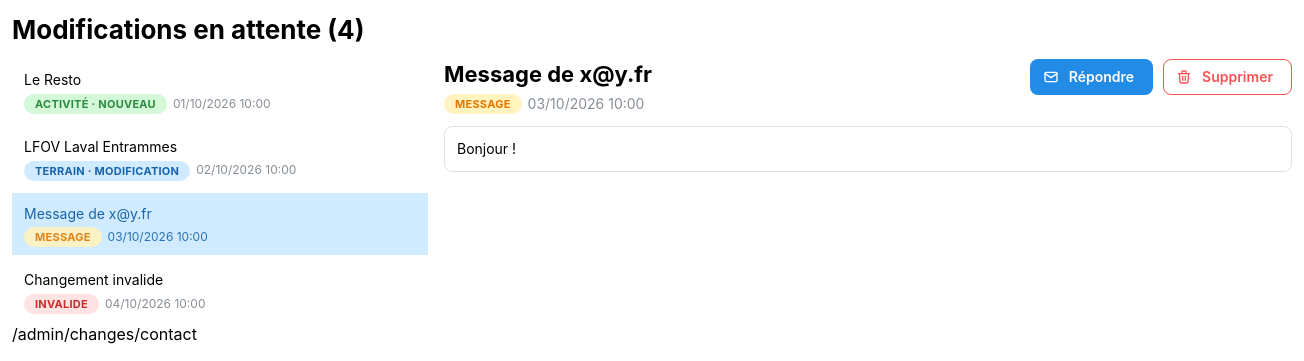
AdminChanges › reads contact messages, which can only be answered or deleted
The image size is (1304, 361).
expect the text "Bonjour !" is shown: met, box [457,140,516,157]
Click the button "Supprimer" at (1228, 77), box [1163,59,1292,95]
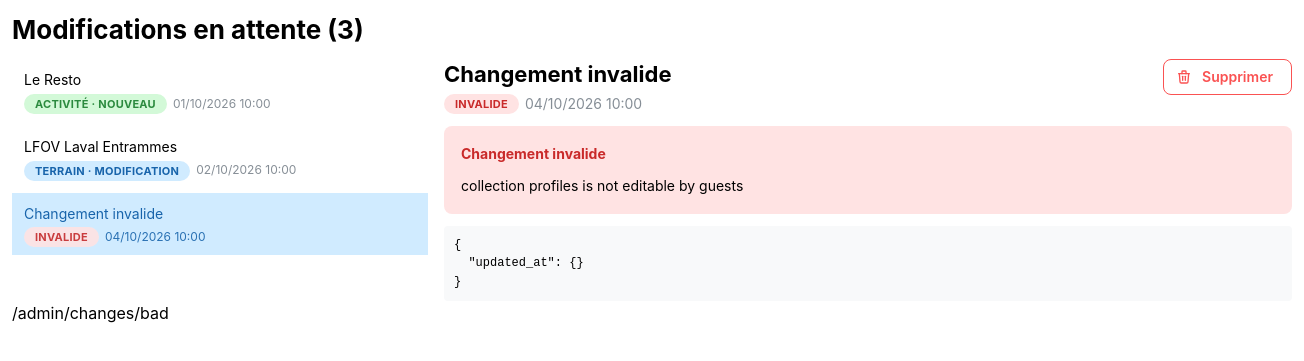
expect the heading "Modifications en attente (3)" is shown: met, box [12,14,364,45]
